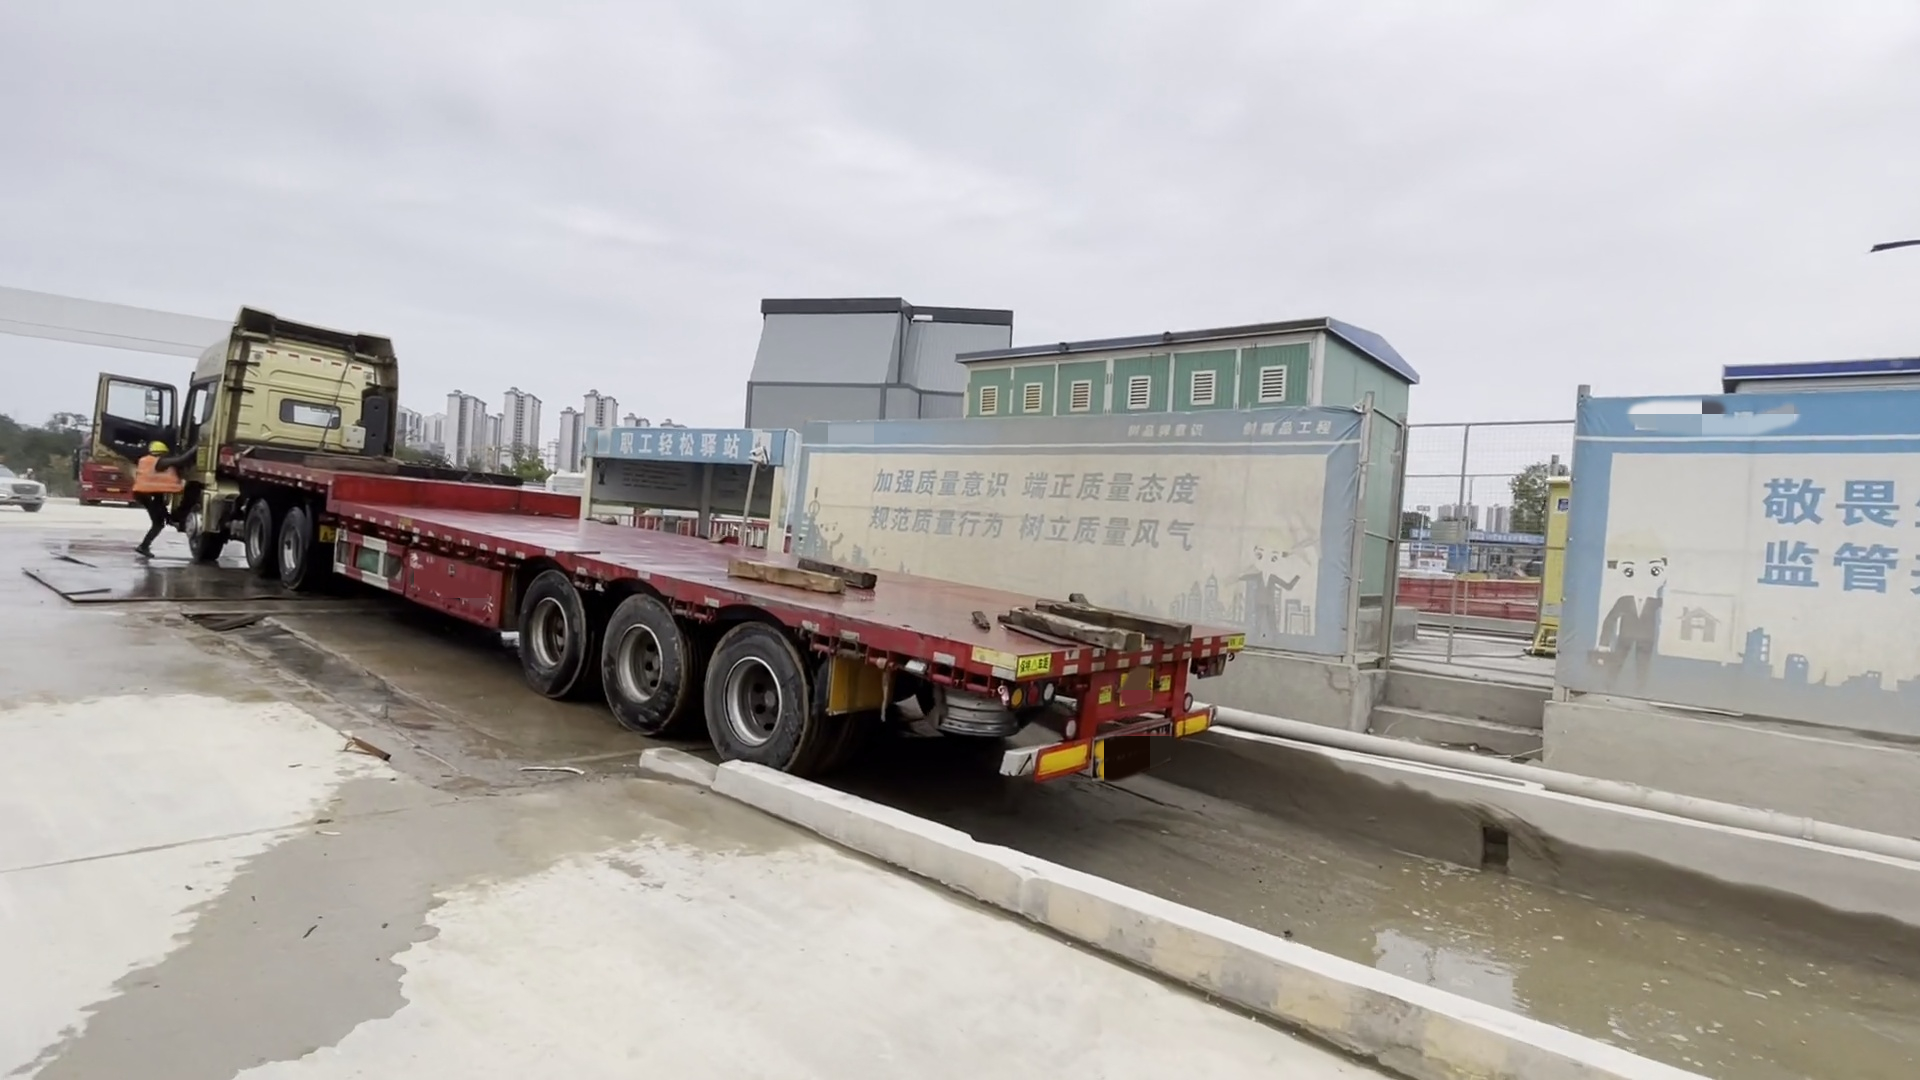helmet: (147, 441, 169, 453)
person: (125, 438, 200, 569)
slogan: (844, 450, 1226, 560), (1744, 464, 1920, 609)
vest: (133, 449, 178, 494)
